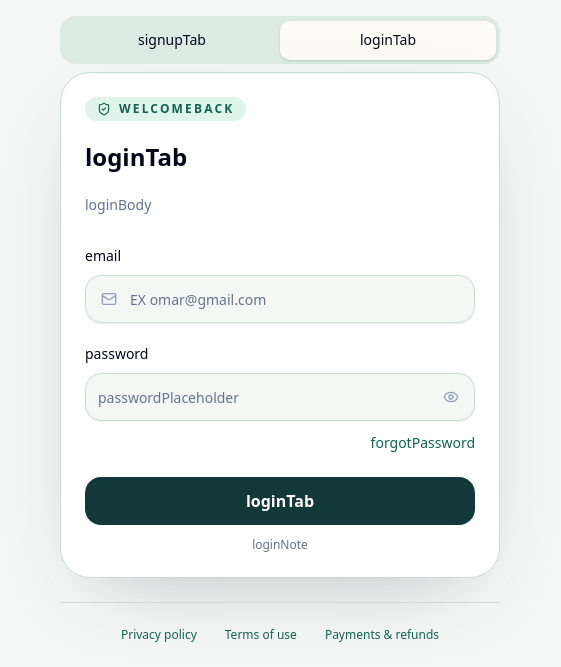
Test: authentication form behavior › gives the password visibility control a descriptive name
Click the button named "showPassword" at (451, 397), box [443, 389, 459, 405]
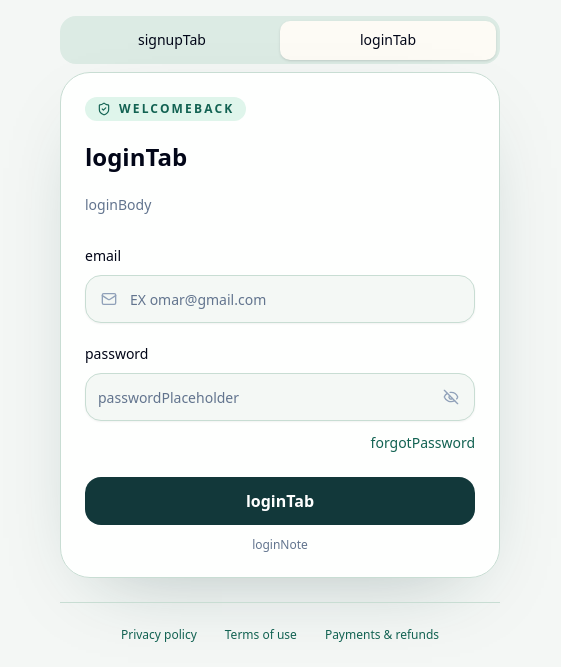
Now the button named "hidePassword" is shown, box [443, 389, 459, 405]
